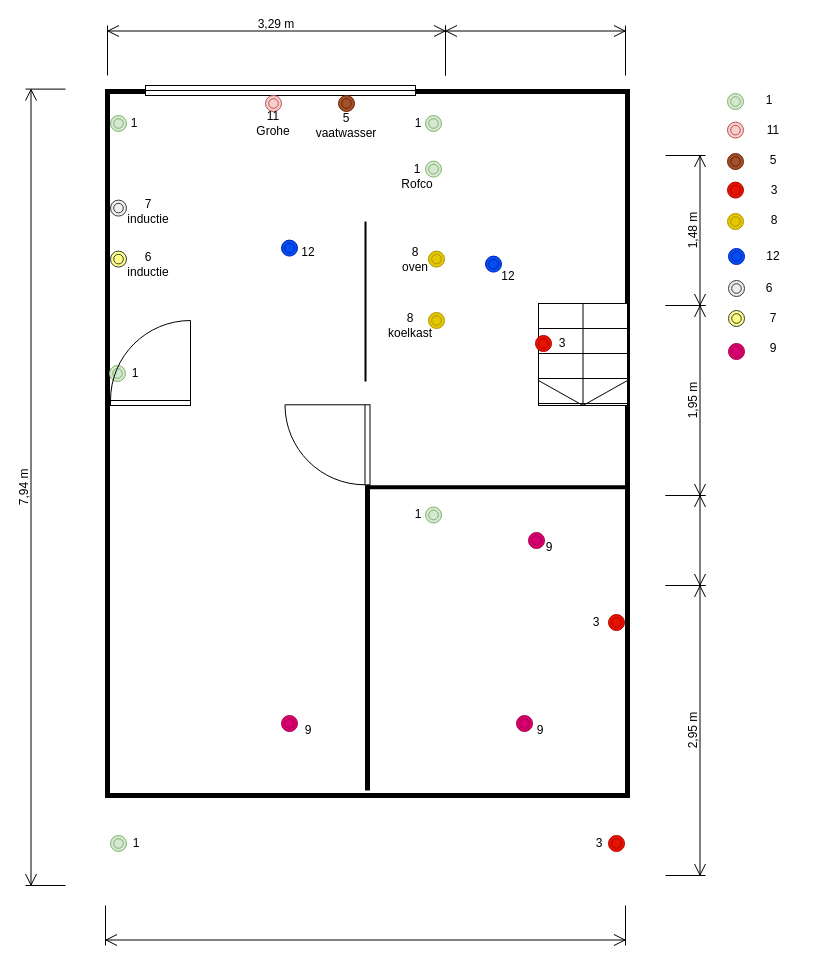
Some shapes in this 821 by 963 pixel diagram are drawn without their labels. Here are the shapes that lost their labels. From the top down, the centre of each, then its label:
At (x=535, y=50): "1,8 m".
At (x=685, y=540): "0,89 m".
At (x=365, y=925): "5,19 m".
